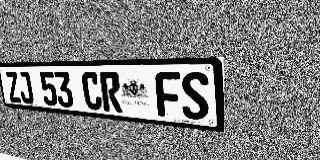3: (54, 72, 74, 108)
5: (39, 72, 59, 106)
C: (81, 72, 103, 111)
F: (154, 72, 182, 118)
J: (17, 72, 35, 104)
R: (99, 72, 123, 113)
S: (180, 72, 209, 121)
Z: (5, 72, 22, 103)
